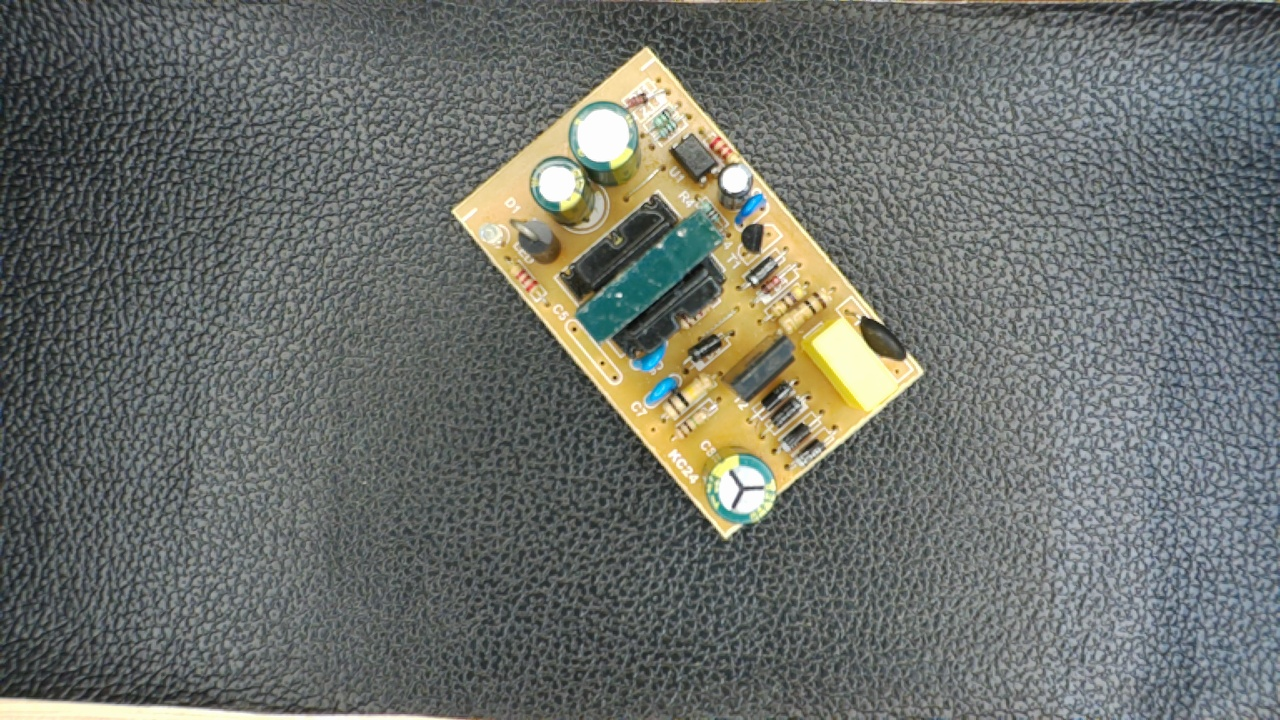fuse: (842, 308, 914, 363)
hv_capacitor: (696, 444, 783, 527)
optocoupler: (663, 132, 723, 186)
